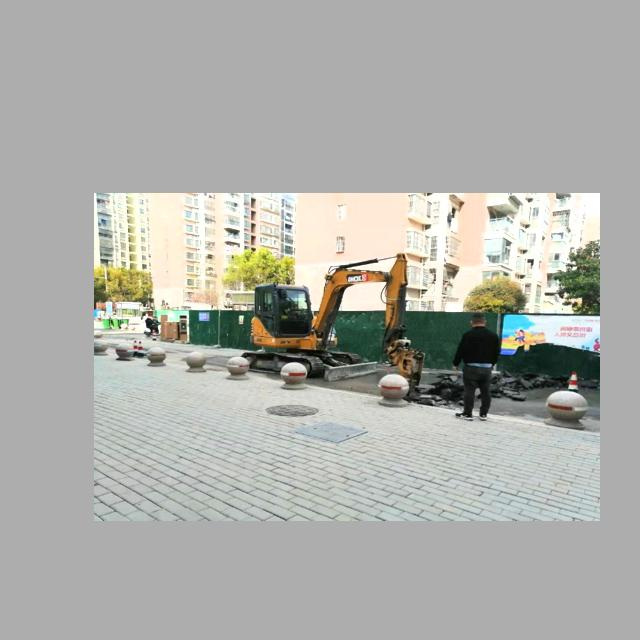good: (288, 420, 371, 442), (266, 405, 319, 416)
